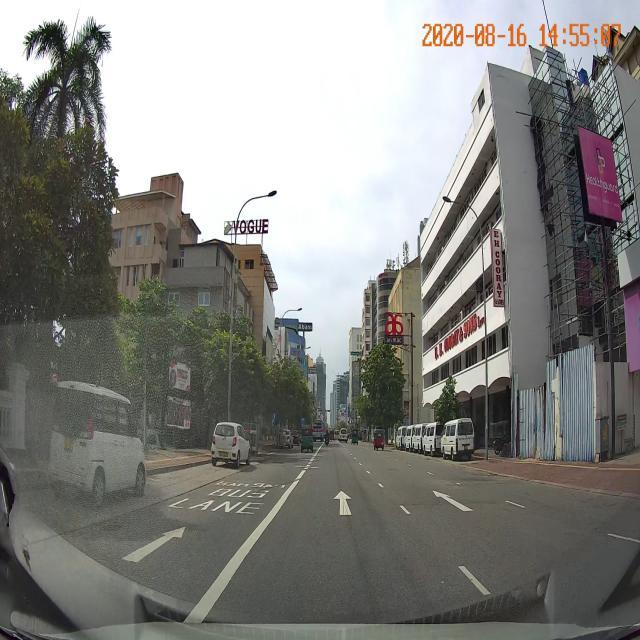forward: (264, 487, 418, 522)
